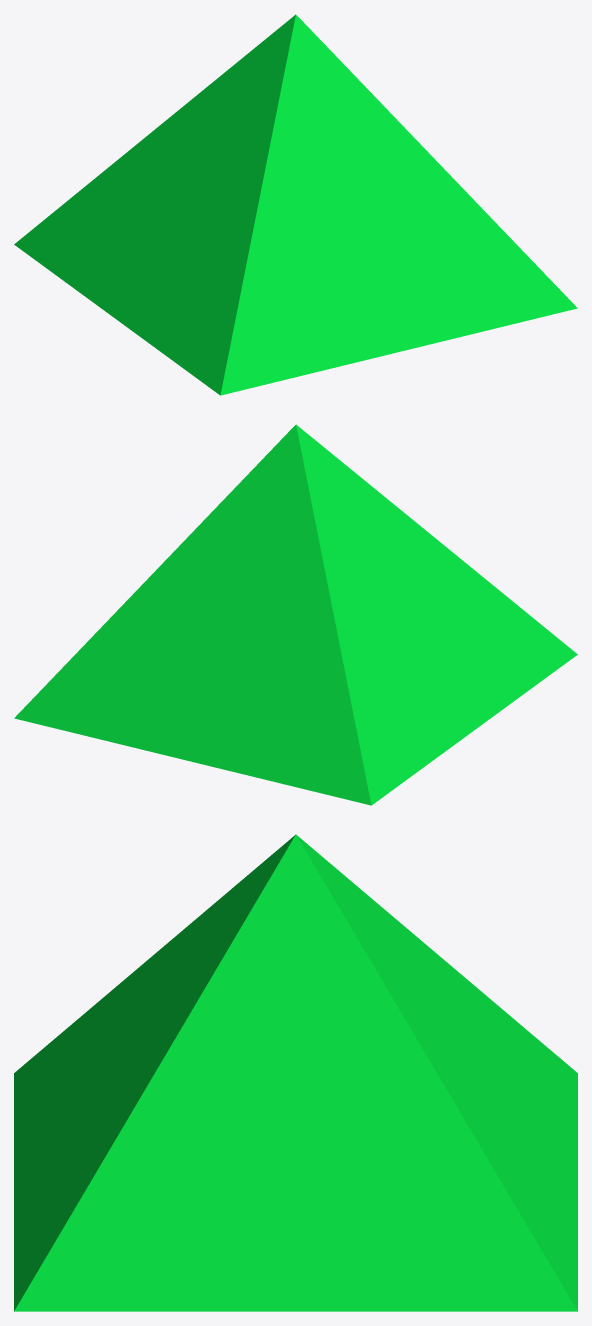
Rendered from pyramidcolor.gltf.
3 renders of one model, top to bottom at view 1: azimuth 30°, elevation 25°; view 2: azimuth 150°, elevation 25°; view 3: azimuth 270°, elevation 25°, orthographic. The views are drawn at different scales.
Visible parts, largest first — view 1: Plane; view 2: Plane; view 3: Plane.
Boxes of the visible parts, bbox=[...] form: Plane: bbox=[14, 14, 577, 395]; Plane: bbox=[14, 424, 577, 805]; Plane: bbox=[14, 834, 577, 1311].
Size of the model in its own units: 2 by 1.4 by 2.
